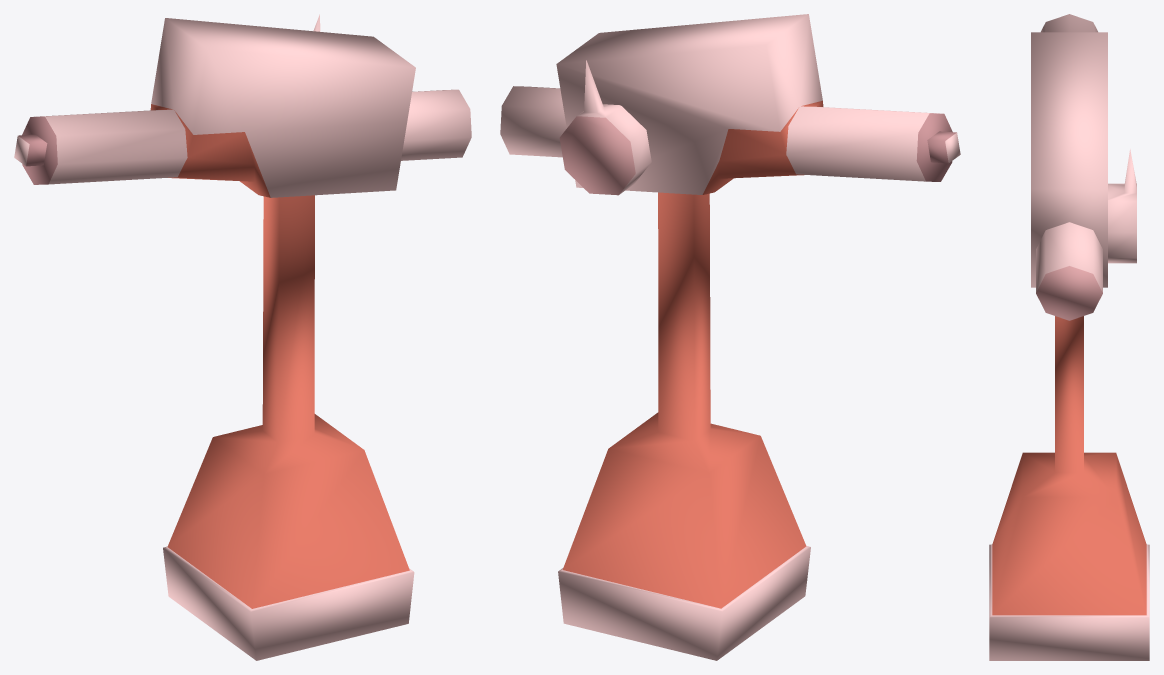
The picture shows the model from 3 angles, left to right: view 1: azimuth 30°, elevation 25°; view 2: azimuth 150°, elevation 25°; view 3: azimuth 270°, elevation 25°; orthographic projection. The views are drawn at different scales.
Visible parts, largest first — view 1: SpaceDrill; view 2: SpaceDrill; view 3: SpaceDrill.
Part boxes in pixels (x1,y1,x2,y2): SpaceDrill: (14,14,471,660); SpaceDrill: (500,14,960,660); SpaceDrill: (989,14,1149,660).
Bounding box in the file's own units: 0.2127 × 0.2787 × 0.0738.
Materials: 1 (1 with a texture image).
